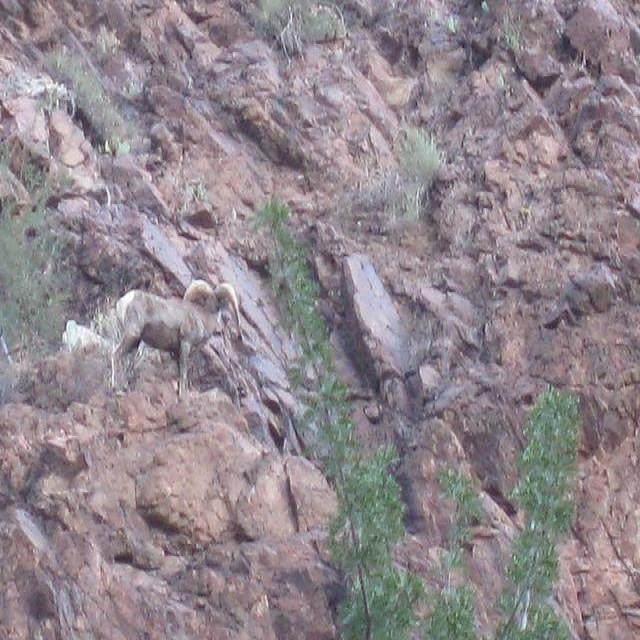Sheep: (112, 283, 244, 401)
